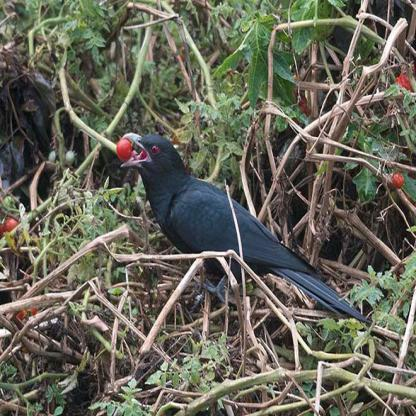Burung: (114, 131, 370, 323)
